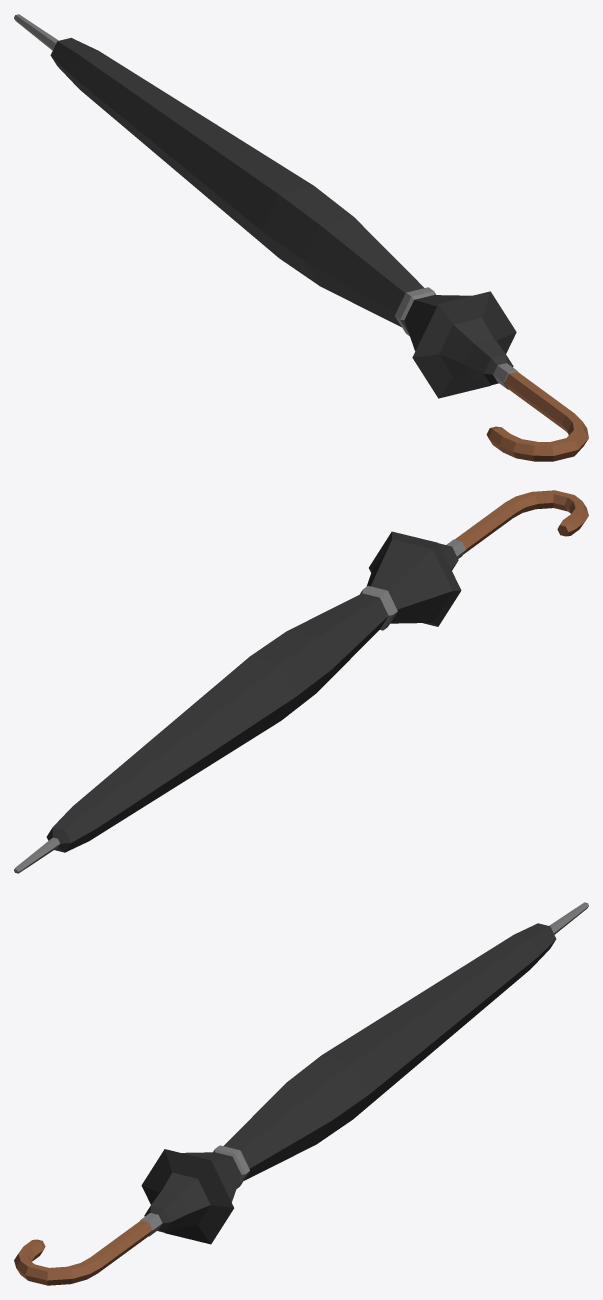
File: SM_WeaponUmbrella.FBX
3 renders of one model, top to bottom at view 1: azimuth 30°, elevation 25°; view 2: azimuth 150°, elevation 25°; view 3: azimuth 330°, elevation 25°, orthographic. The views are drawn at different scales.
Visible parts, largest first — view 1: SM_Umbrella; view 2: SM_Umbrella; view 3: SM_Umbrella.
Boxes of the visible parts, x1,y1,x2,y2 form: SM_Umbrella: (14, 14, 588, 461); SM_Umbrella: (14, 490, 588, 873); SM_Umbrella: (14, 902, 588, 1285).
Size of the model in its own units: 2.59 by 20.16 by 1.8.
